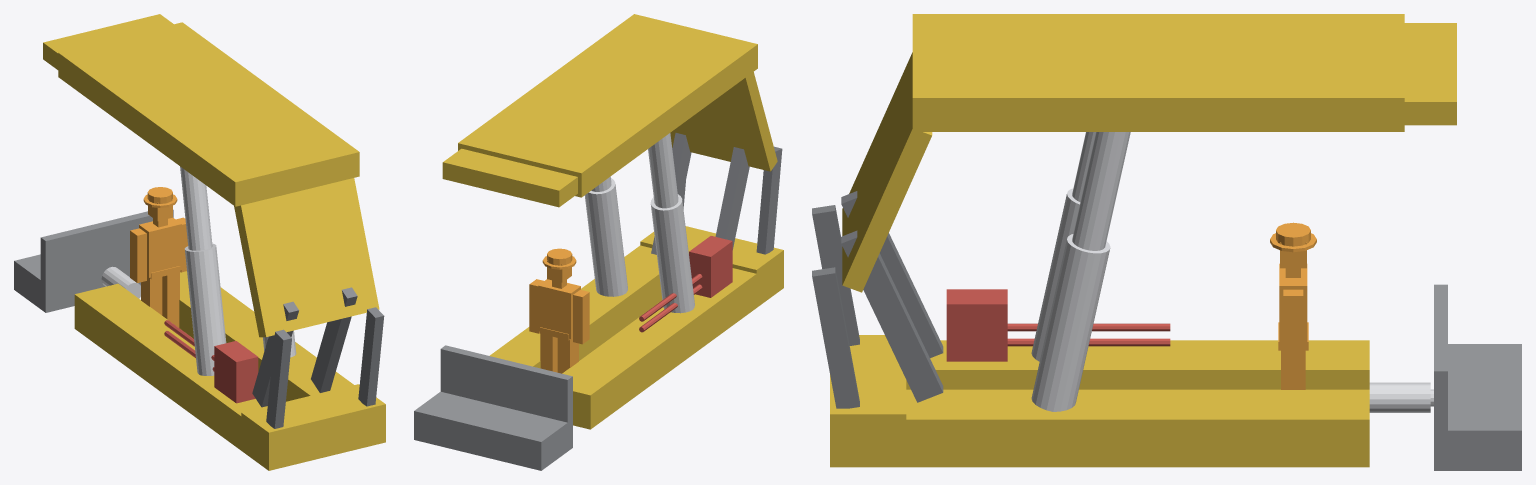
The model's file is roof-support.glb.
3 renders of one model, left to right at view 1: azimuth 30°, elevation 25°; view 2: azimuth 150°, elevation 25°; view 3: azimuth 270°, elevation 25°, orthographic. The views are drawn at different scales.
Visible parts, largest first — view 1: canopy, base, caving_shield, afc_pan, lemniscate_links, hydraulic_legs, scale_figure, control_valve_bank, canopy_tip_extension, advance_ram; view 2: canopy, base, afc_pan, hydraulic_legs, caving_shield, scale_figure, canopy_tip_extension, lemniscate_links, control_valve_bank; view 3: base, canopy, hydraulic_legs, lemniscate_links, afc_pan, caving_shield, control_valve_bank, canopy_tip_extension, scale_figure, advance_ram.
Boxes of the visible parts, box(x1,y1,x2,y2) form: canopy: box(58, 22, 359, 206); base: box(74, 271, 385, 470); caving_shield: box(234, 178, 379, 337); afc_pan: box(14, 209, 173, 312); lemniscate_links: box(252, 287, 384, 428); hydraulic_legs: box(180, 166, 296, 375); scale_figure: box(130, 187, 188, 327); control_valve_bank: box(164, 320, 258, 403); canopy_tip_extension: box(43, 14, 173, 69); advance_ram: box(101, 266, 140, 298); canopy: box(458, 14, 757, 197); base: box(489, 226, 783, 429); afc_pan: box(414, 345, 572, 470); hydraulic_legs: box(584, 133, 694, 313); caving_shield: box(670, 72, 777, 171); scale_figure: box(529, 248, 589, 373); canopy_tip_extension: box(442, 148, 577, 207); lemniscate_links: box(651, 133, 782, 254); control_valve_bank: box(639, 236, 732, 332); base: box(830, 335, 1369, 467); canopy: box(912, 14, 1404, 131); hydraulic_legs: box(1031, 132, 1130, 411); lemniscate_links: box(812, 191, 943, 408); afc_pan: box(1434, 284, 1521, 470); caving_shield: box(842, 52, 932, 292); control_valve_bank: box(946, 289, 1170, 361); canopy_tip_extension: box(1404, 23, 1456, 125); scale_figure: box(1270, 222, 1316, 389); advance_ram: box(1369, 382, 1433, 412).
Size of the model in its own units: 1.75 by 3.5 by 6.06.
